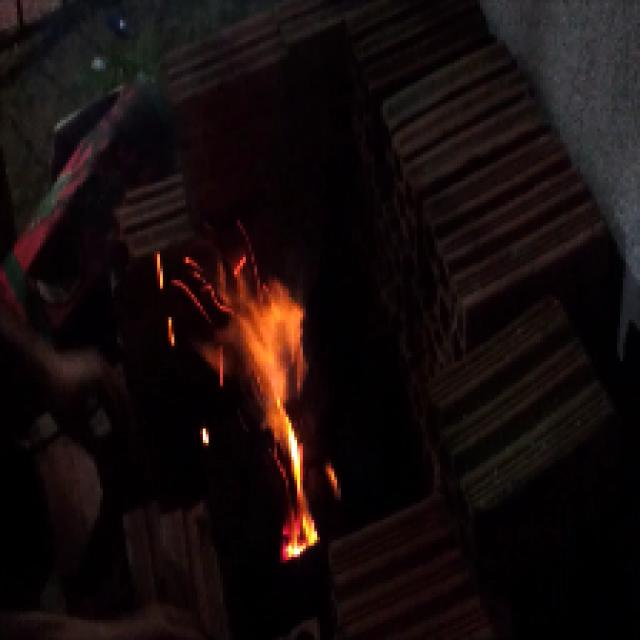fire: (188, 263, 332, 573)
